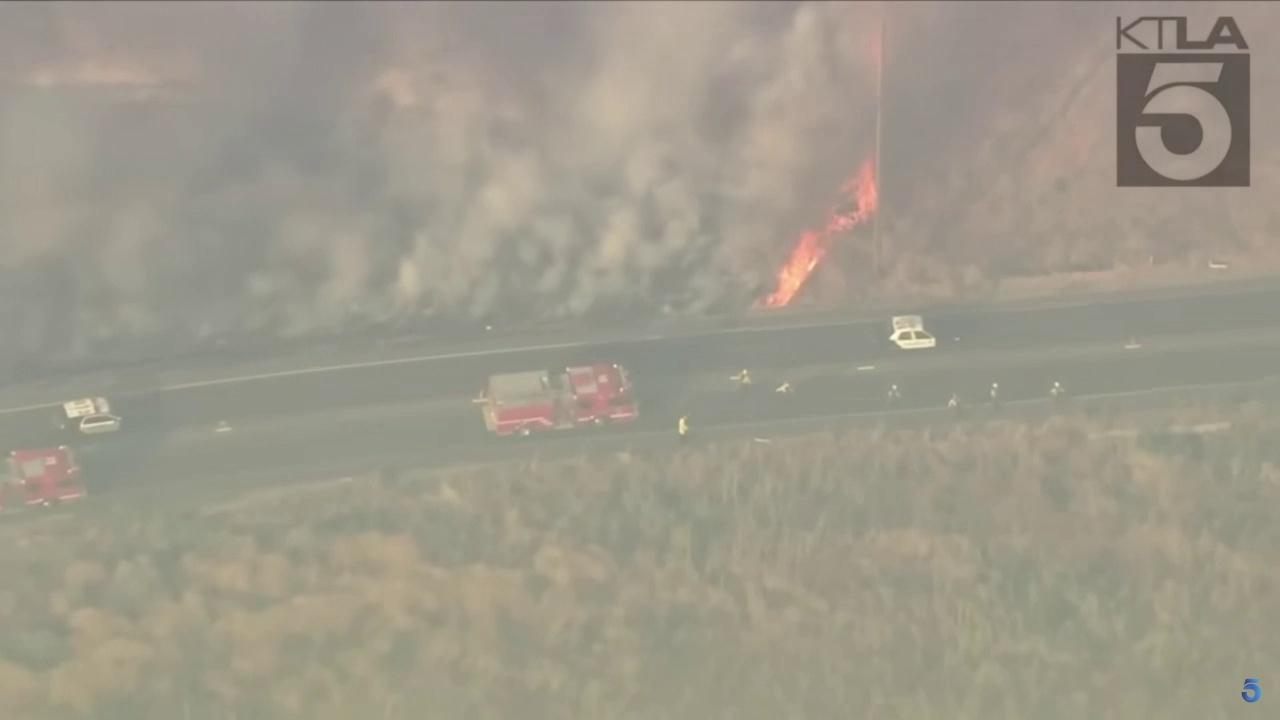fire: (747, 157, 879, 314)
smoke: (0, 0, 982, 366)
